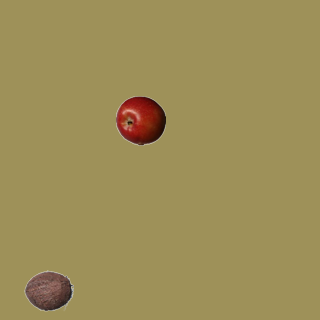Apple Braeburn: (115, 95, 165, 145)
Cocos: (23, 265, 73, 315)
